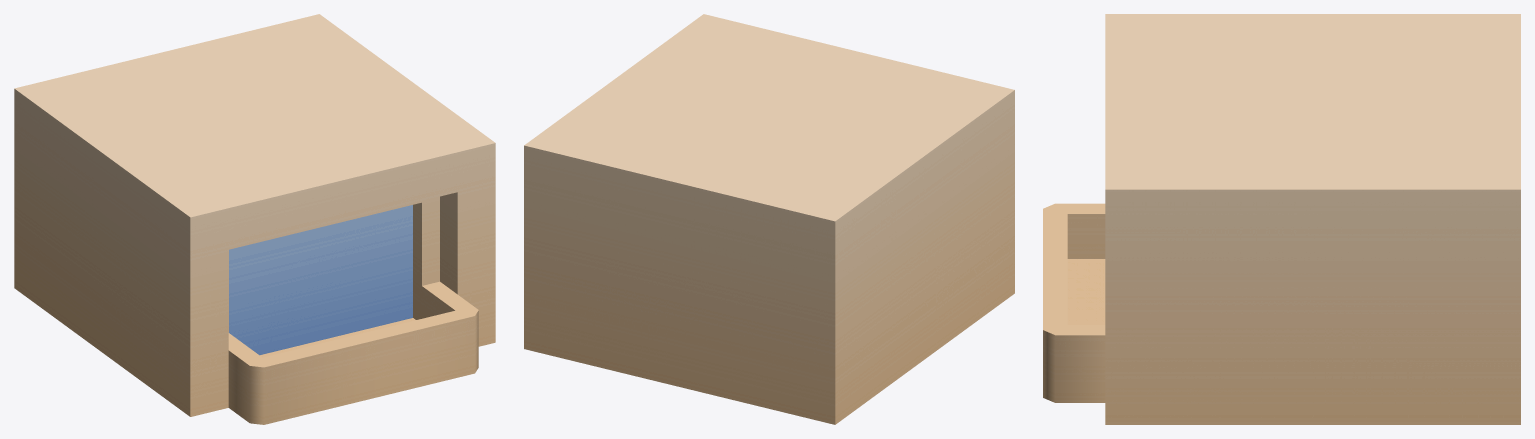
The model's file is building-window-balcony.glb.
3 renders of one model, left to right at view 1: azimuth 30°, elevation 25°; view 2: azimuth 150°, elevation 25°; view 3: azimuth 270°, elevation 25°, orthographic. The views are drawn at different scales.
Parts seen in each view (by area): view 1: building-window-balcony; view 2: building-window-balcony; view 3: building-window-balcony.
Boxes of the visible parts, x1,y1,x2,y2 form: building-window-balcony: (14,14,495,424); building-window-balcony: (524,14,1014,424); building-window-balcony: (1043,14,1520,424).
Size of the model in its own units: 1 by 0.625 by 1.15.
1 material, 1 textured.
